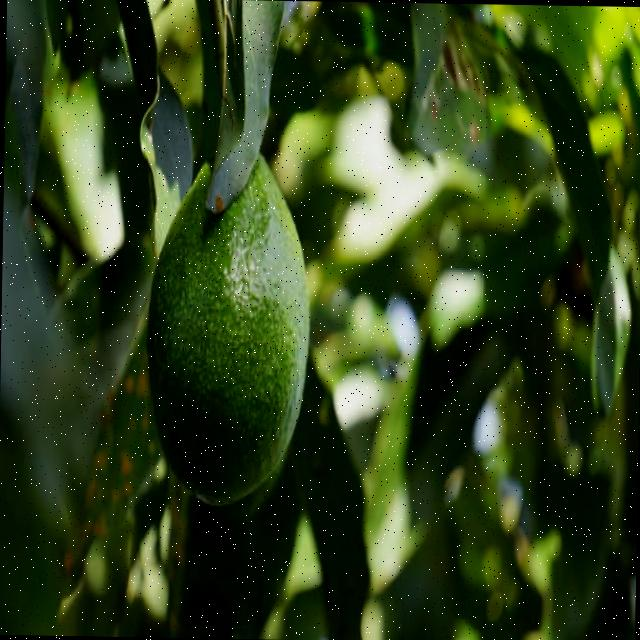Unripe: (142, 128, 312, 506)
